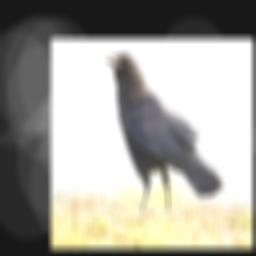Crow: (105, 52, 224, 214)
